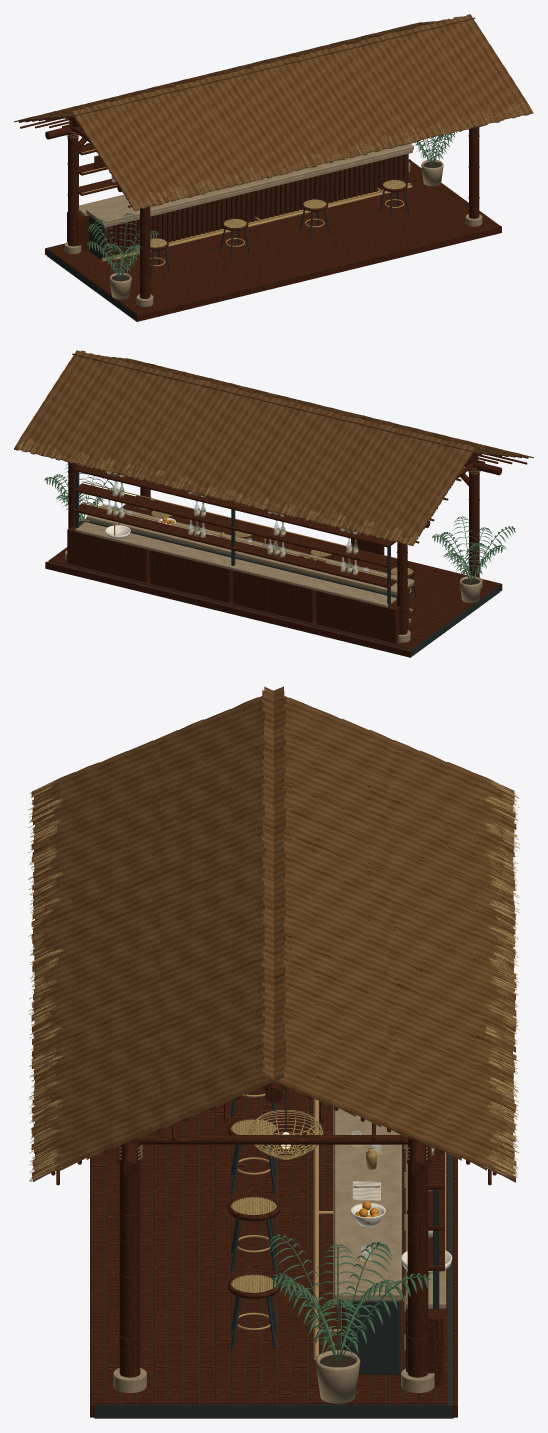
File: djc-bar-pilot.glb
The picture shows the model from 3 angles, top to bottom: view 1: azimuth 30°, elevation 25°; view 2: azimuth 150°, elevation 25°; view 3: azimuth 270°, elevation 25°; orthographic projection. The views are drawn at different scales.
Visible parts, largest first — view 1: DJC · Dry palm thatch · longitudinal fibres, DJC · Oiled teak · photographed grain, DJC · Honed limestone · mineral pores, DJC · Blackened steel, DJC · Split rattan, DJC · Palm leaf, DJC · Brushed brass; view 2: DJC · Dry palm thatch · longitudinal fibres, DJC · Oiled teak · photographed grain, DJC · Honed limestone · mineral pores, DJC · Blackened steel, DJC · Palm leaf, DJC · Split rattan, DJC · Brushed brass, DJC · Clear thick glass, DJC · Printed bottle label, DJC · Olive bottle glass; view 3: DJC · Dry palm thatch · longitudinal fibres, DJC · Oiled teak · photographed grain, DJC · Blackened steel, DJC · Honed limestone · mineral pores, DJC · Split rattan, DJC · Palm leaf, DJC · Brushed brass.
Part boxes in pixels (x1,y1,x2,y2): DJC · Dry palm thatch · longitudinal fibres: [14, 14, 532, 211]; DJC · Oiled teak · photographed grain: [18, 31, 501, 321]; DJC · Honed limestone · mineral pores: [64, 144, 482, 306]; DJC · Blackened steel: [47, 153, 489, 320]; DJC · Split rattan: [16, 23, 533, 247]; DJC · Palm leaf: [85, 131, 457, 278]; DJC · Brushed brass: [81, 149, 412, 266]; DJC · Dry palm thatch · longitudinal fibres: [14, 350, 533, 545]; DJC · Oiled teak · photographed grain: [45, 377, 528, 657]; DJC · Honed limestone · mineral pores: [65, 497, 482, 642]; DJC · Blackened steel: [48, 471, 500, 656]; DJC · Palm leaf: [44, 462, 515, 582]; DJC · Split rattan: [17, 359, 530, 575]; DJC · Brushed brass: [82, 481, 412, 622]; DJC · Clear thick glass: [107, 472, 368, 574]; DJC · Printed bottle label: [106, 471, 358, 572]; DJC · Olive bottle glass: [113, 473, 357, 573]; DJC · Dry palm thatch · longitudinal fibres: [31, 686, 516, 1182]; DJC · Oiled teak · photographed grain: [38, 821, 509, 1417]; DJC · Blackened steel: [94, 1087, 453, 1418]; DJC · Honed limestone · mineral pores: [113, 1106, 446, 1403]; DJC · Split rattan: [28, 781, 519, 1292]; DJC · Palm leaf: [267, 1234, 430, 1362]; DJC · Brushed brass: [237, 1093, 405, 1360].
Bounding box in the file's own units: 11.91 × 4.99 × 6.16.
Materials: 18 (3 with a texture image).
